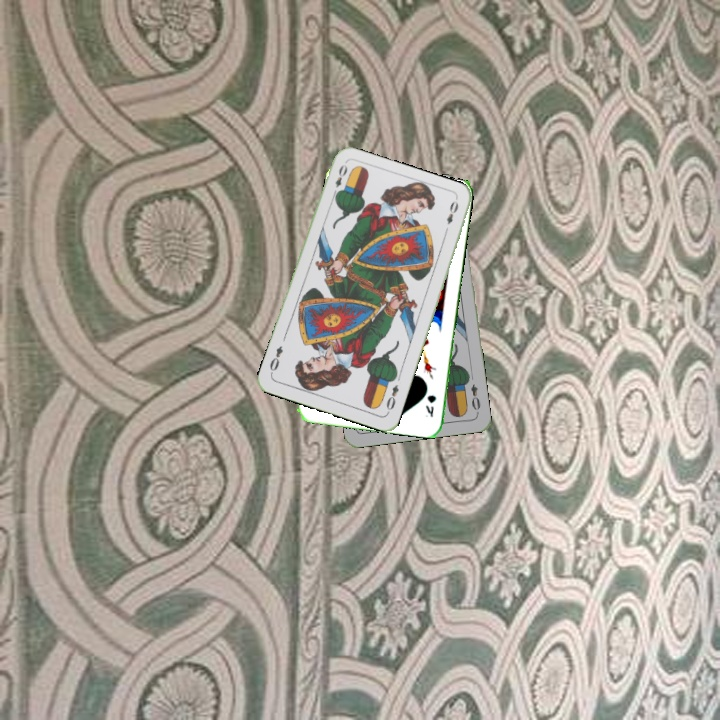EO: (329, 160, 350, 199), (382, 380, 401, 416), (467, 380, 483, 416)
GK: (422, 391, 439, 419)
